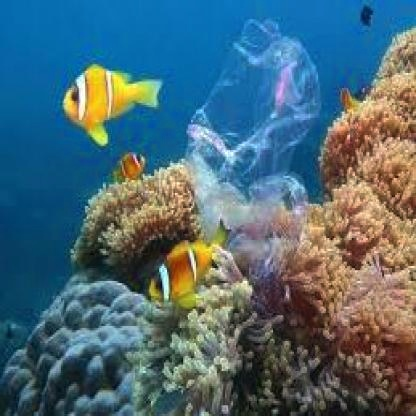pbag: (185, 17, 323, 311)
